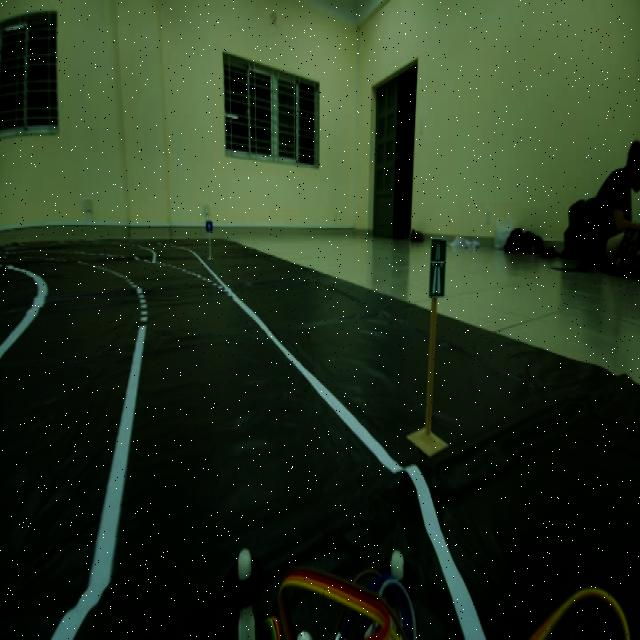highway_entry: (417, 228, 451, 312)
